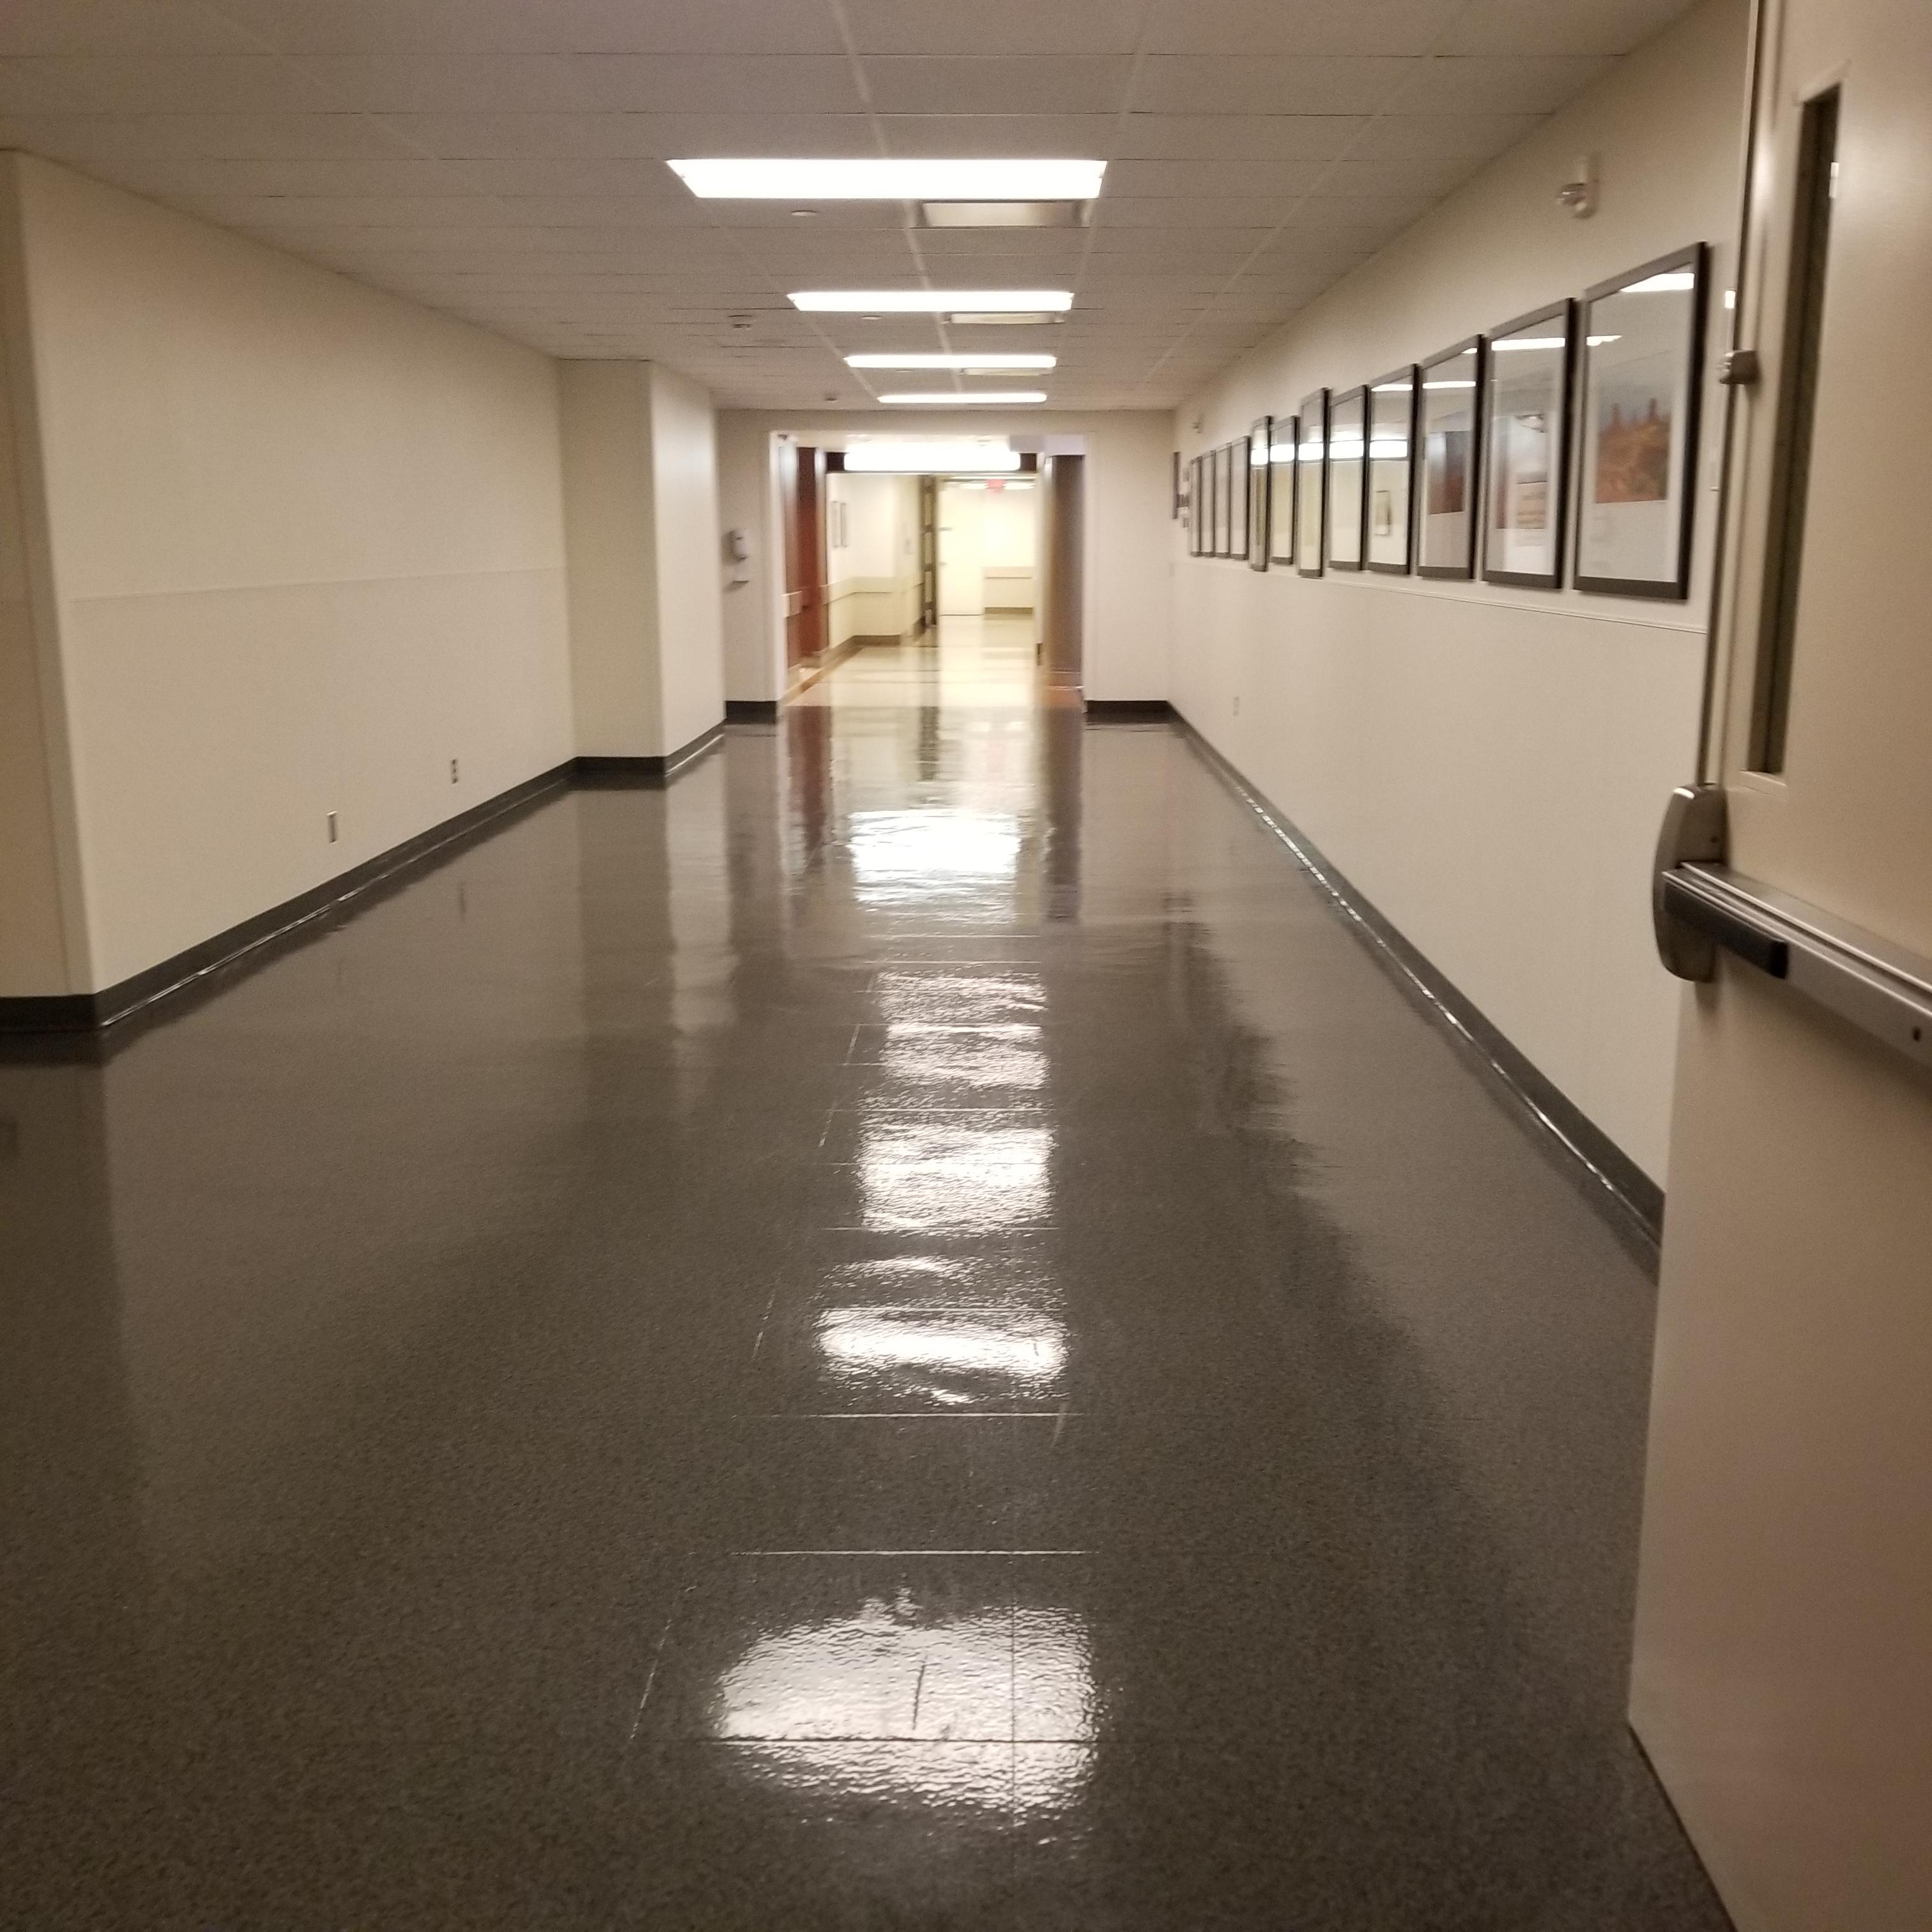dispenser: (720, 527, 761, 587)
push_latch: (1649, 768, 1932, 1093)
